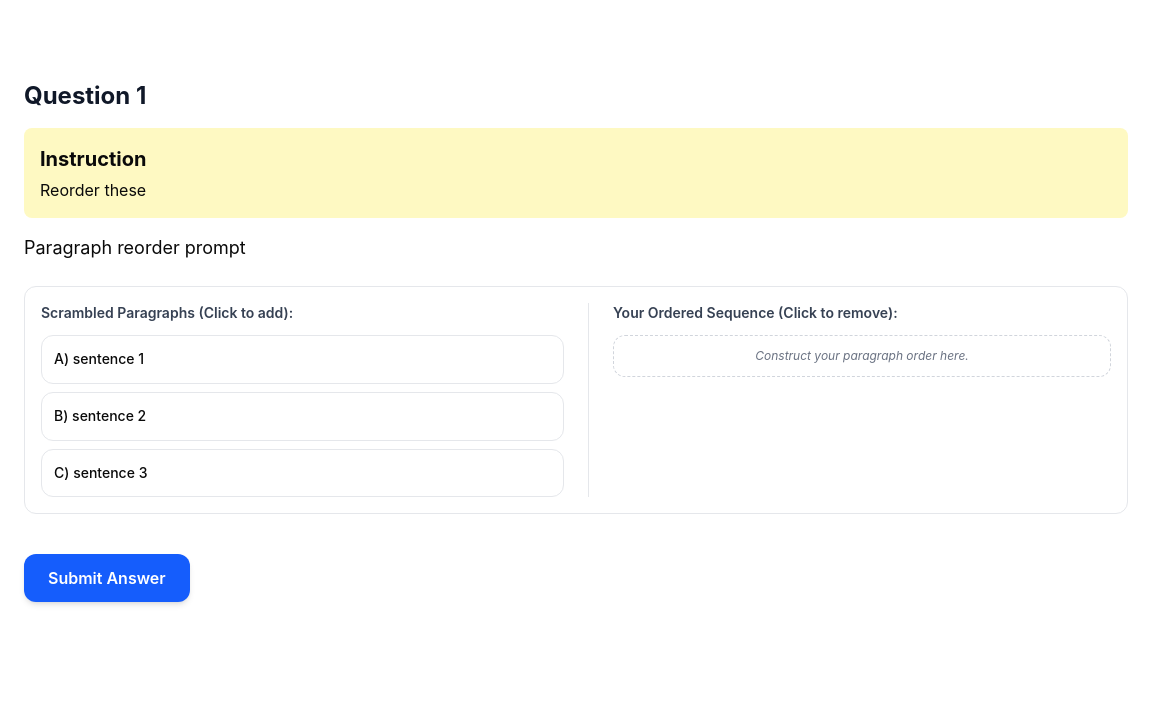
Test: QuestionPage - Reorder and Incorrect Word › interacts and submits Reorder Paragraph question
Expected: the text "Paragraph reorder prompt" is shown, [24, 237, 246, 258]
// Click scrambled paragraphs to order them
What coordinates should you click on to do the following:
click the button "A) sentence 1"
I would click on:
 (99, 358)
Its box is [41, 335, 564, 384].
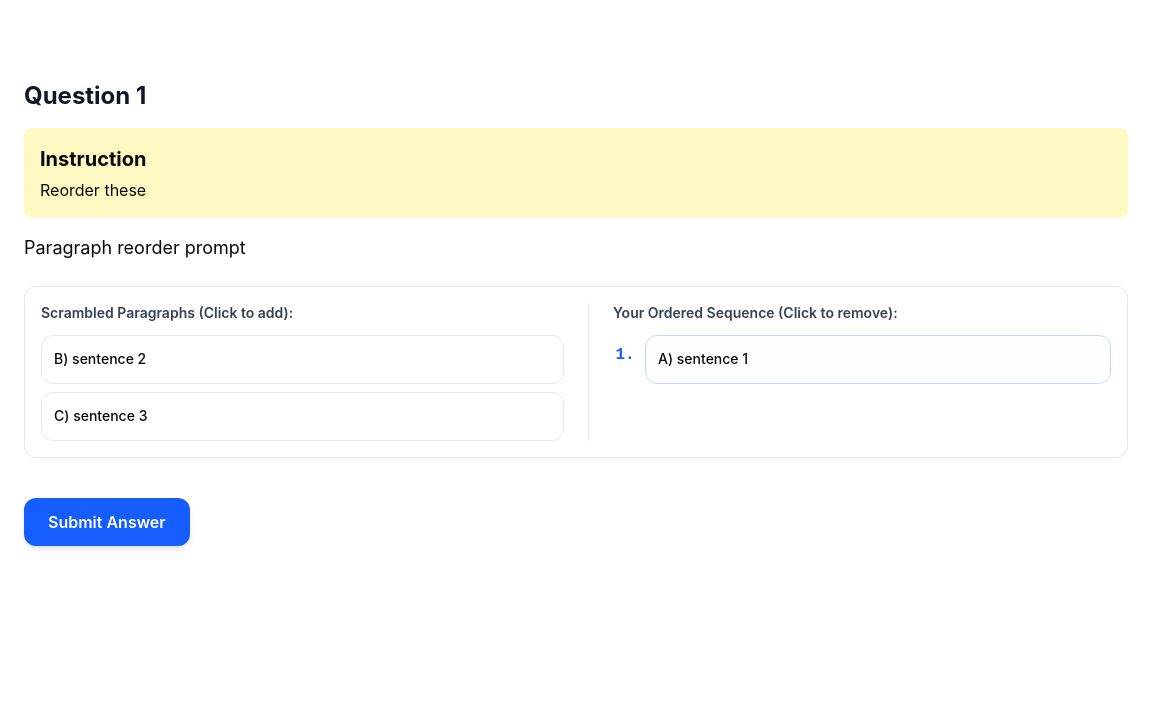
What coordinates should you click on to do the following:
click the button "B) sentence 2"
I would click on:
 (100, 358)
Its box is [41, 335, 564, 384].
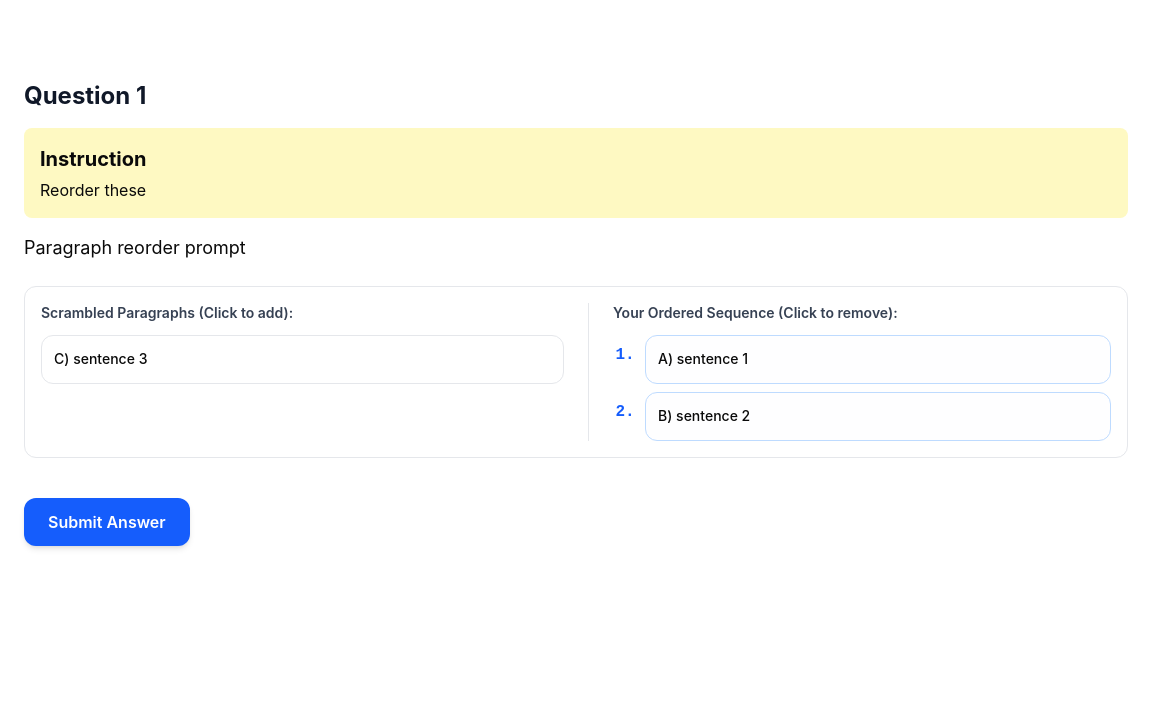
What coordinates should you click on to do the following:
click the button "C) sentence 3"
I would click on:
 (101, 358)
Its box is [41, 335, 564, 384].
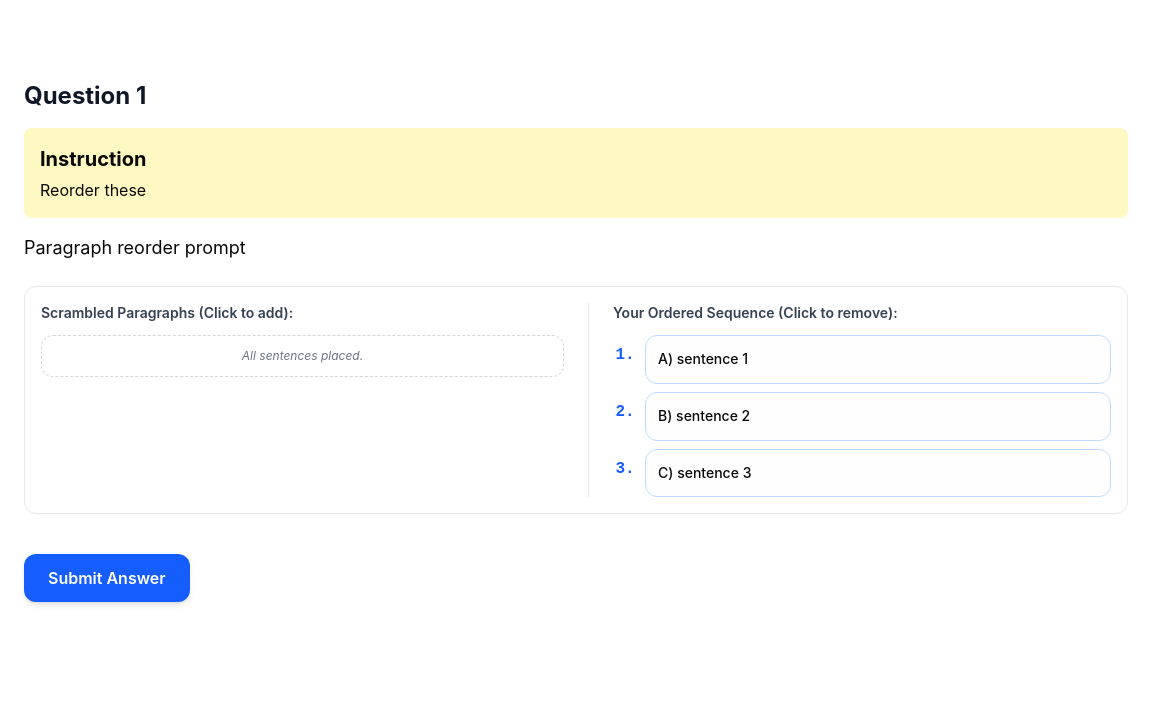
// Remove sentence 2
What coordinates should you click on to do the following:
click the button "B) sentence 2"
I would click on:
 (704, 415)
Its box is [645, 392, 1111, 441].
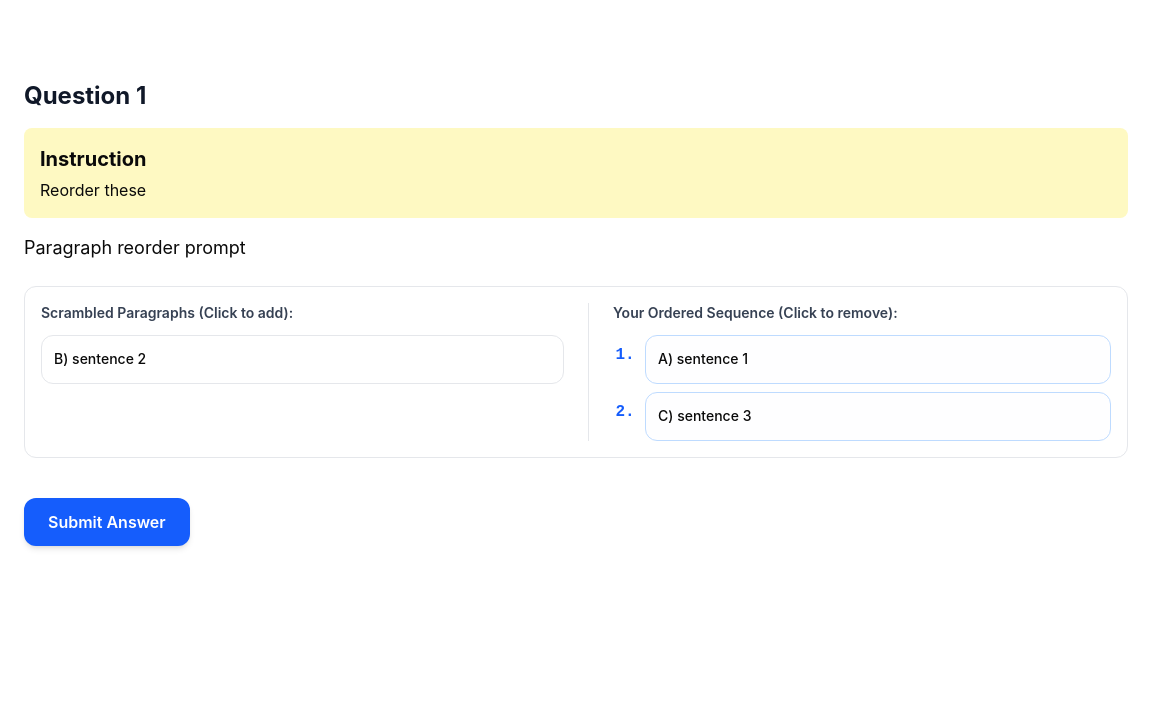
// Re-add sentence 2
What coordinates should you click on to do the following:
click the button "B) sentence 2"
I would click on:
 (100, 358)
Its box is [41, 335, 564, 384].
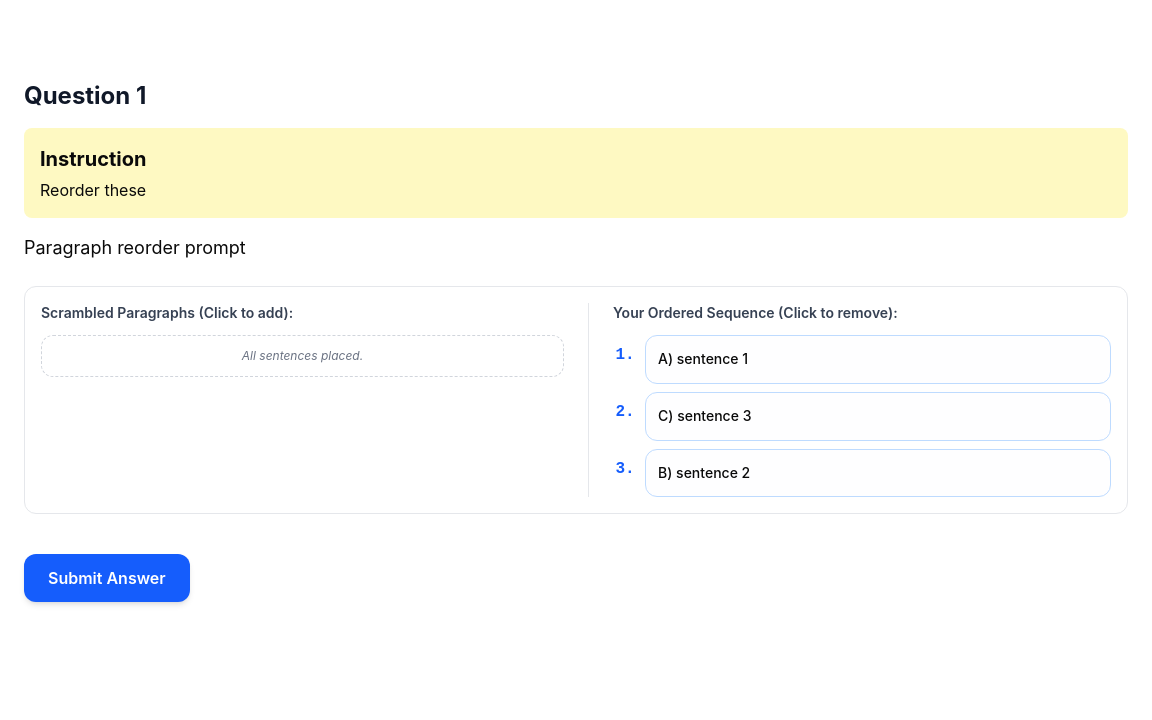
What coordinates should you click on to do the following:
click the button "Submit Answer"
I would click on:
 (107, 578)
Its box is [24, 554, 190, 602].
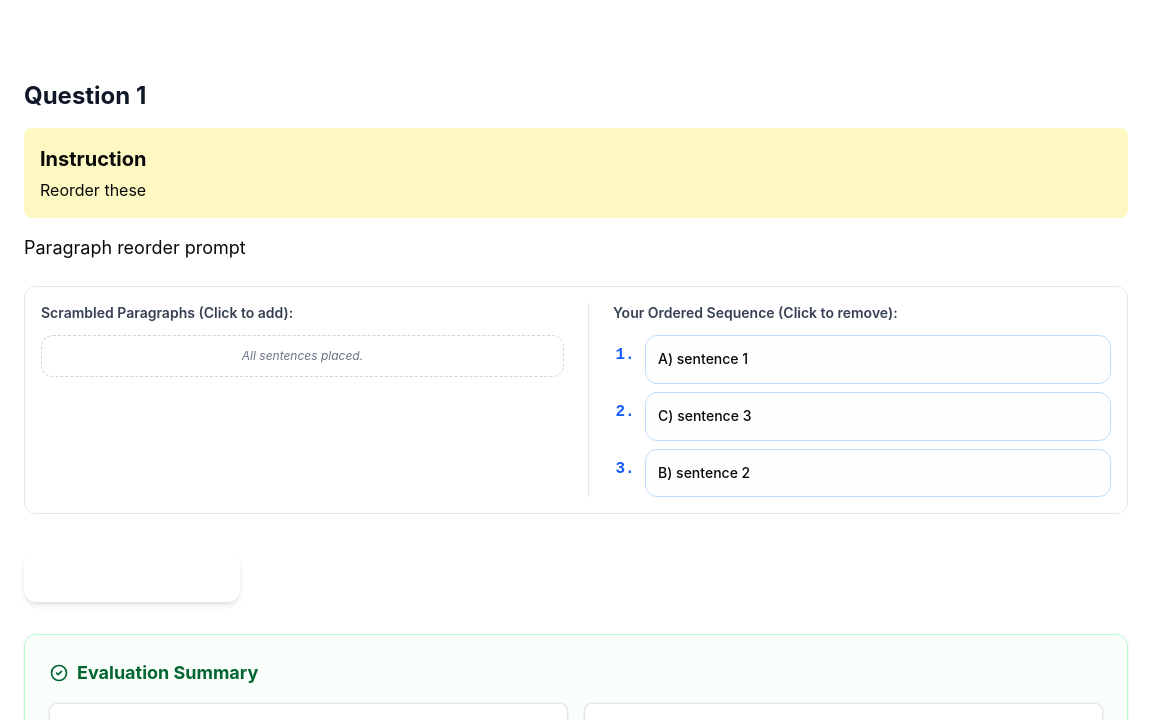
Now the heading "Evaluation Summary" is shown, box [49, 662, 258, 683]
